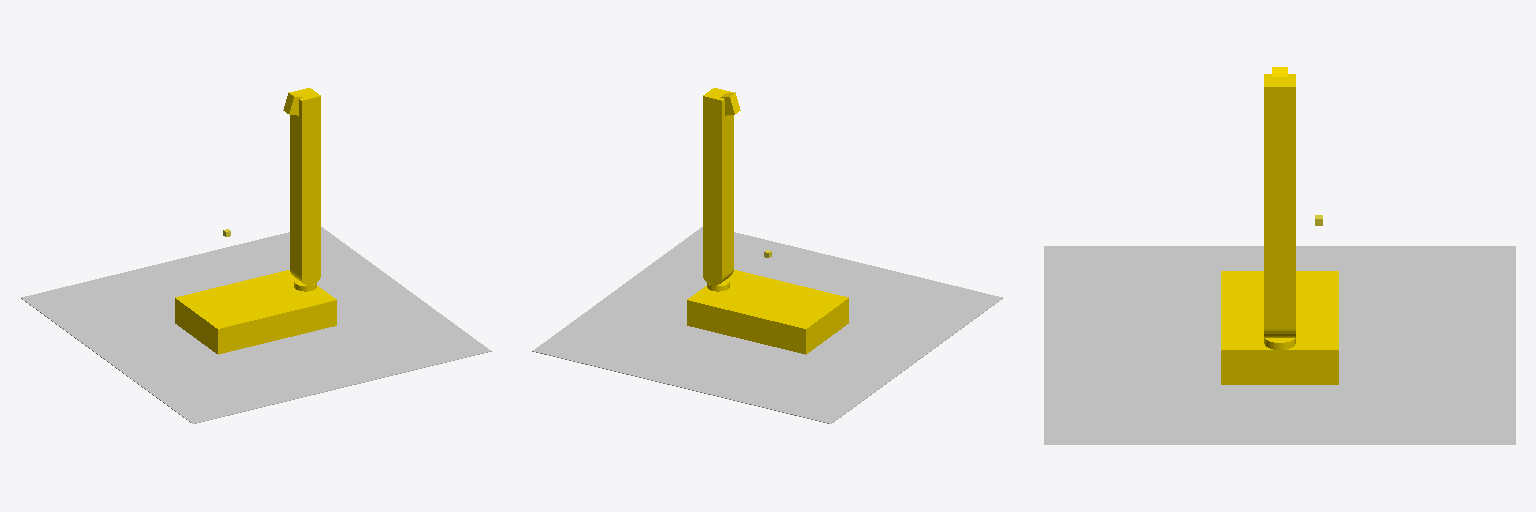
robot.urdf — rover_crane_nbv:
<?xml version="1.0" ?>
<robot name="rover_crane_nbv">

    <material name="black">
        <color rgba="0 0 0 1"/>
    </material>
    <material name="gold">
        <color rgba="1 0.882 0 1"/>
    </material>
    <material name="lunar_surface">
        <color rgba="0.85 0.85 0.85 1"/>
    </material>

<!-- Start Rover -->
    <!-- Base -->
    <link name="rover_base_link">
        <visual>
            <origin xyz="0 0 0.005" rpy="0 0 0" />
            <geometry>
               <box size="6 6 0.01"/>
            </geometry>
            <material name="lunar_surface"/>
        </visual>
        <collision>
            <origin xyz="0 0 0.005" rpy="0 0 0" />
            <geometry>
                <box size="6 6 0.01"/>
            </geometry>
        </collision>   
        
        <visual>
            <origin xyz="0 0 0.25" rpy="0 0 0" />
            <geometry>
               <box size="2.4 1.5 0.5"/>
            </geometry>
            <material name="gold"/>
        </visual>
        <collision>
            <origin xyz="0 0 0.25" rpy="0 0 0" />
            <geometry>
                <box size="2.4 1.5 0.5"/>
            </geometry>
        </collision>   
    </link>
    
    <link name="crane_yaw">
        <visual>
            <origin xyz="0 0 0.05" rpy="0 0 0" />
            <geometry>
               <cylinder length="0.1" radius="0.2"/>
            </geometry>
            <material name="gold"/>
        </visual>
        <collision>
            <origin xyz="0 0 0.05" rpy="0 0 0" />
            <geometry>
                <cylinder length="0.1" radius="0.2"/>
            </geometry>
        </collision>    
    </link>
    
    <joint name="joint0_1" type="revolute">
        <parent link="rover_base_link"/>
        <child link="crane_yaw"/>
        <origin xyz="1.0 0 0.5" rpy="0 0 0"/>
        <axis xyz="0 0 1"/>
        <limit lower="-0.523599" upper="0.523599" effort="0" velocity="0"/>
    </joint>

    <link name="crane_link1">
        <visual>
            <origin xyz="0 0 0" rpy="1.5708 0 0" />
            <geometry>
               <cylinder length="0.4" radius="0.2"/>
            </geometry>
            <material name="gold"/>
        </visual>
        <collision>
            <origin xyz="0 0 0" rpy="1.5708 0 0" />
            <geometry>
                <cylinder length="0.4" radius="0.2"/>
            </geometry>
        </collision>  

        <visual>
            <origin xyz="-1.698 0 0" rpy="0 0 0" />
            <geometry>
               <box size="3.396 0.4 0.4"/>
            </geometry>
            <material name="gold"/>
        </visual>
        <collision>
            <origin xyz="-1.698 0 0" rpy="0 0 0" />
            <geometry>
                <box size="3.396 0.4 0.4"/>
            </geometry>
        </collision>
    </link>


    <joint name="joint0_2" type="revolute">
        <parent link="crane_yaw"/> 
        <child link="crane_link1"/>
        <origin xyz="0 0 0.3" rpy="0 1.5708 0"/>
        <axis xyz="0 1 0"/>
        <limit lower="0.0" upper="1.5708" effort="0" velocity="0"/>
    </joint>


    <link name="crane_link2">
        <visual>
            <origin xyz="1.132 0 0" rpy="0 0 0" />
            <geometry>
               <box size="2.264 0.2 0.2"/>
            </geometry>
            <material name="gold"/>
        </visual>
        <collision>
            <origin xyz="1.132 0 0" rpy="0 0 0" />
            <geometry>
                <box size="2.264 0.2 0.2"/>
            </geometry>
        </collision>
    </link>

    <joint name="joint0_3" type="prismatic">
        <parent link="crane_link1"/>
        <child link="crane_link2"/>
        <origin xyz="-3.396 0 0" rpy="0 0 0"/>
        <axis xyz="-1 0 0"/>
        <limit lower="0.0" upper="2.264" effort="0" velocity="0"/>
    </joint>
    
    <link name="tip">
        <visual>
            <!-- z = (-0.17 - 0.1) -->
            <origin xyz="-0.1 0 -0.17" rpy="0 1.5708 0" />
            <geometry>
               <box size="0.34 0.2 0.2"/>
            </geometry>
            <material name="gold"/>
        </visual>
        <collision>
            <origin xyz="-0.1 0 -0.17" rpy="0 1.5708 0" />
            <geometry>
                <box size="0.34 0.2 0.2"/>
            </geometry>
        </collision>   
    </link>

    <joint name="tip_joint" type="fixed">
        <parent link="crane_link2"/>
        <child link="tip"/>
        <origin xyz="0 0 -0.1" rpy="0 -1.26165662836 0"/>
    </joint>

<!-- START NBV -->
  <link name="base_link">
    <visual>
      <origin xyz="0 0 0" rpy="0 0 0" />
      <geometry>
        <mesh filename="package://../nbv/urdf/stl/mount.stl" />
      </geometry>
    </visual>
    <collision>
      <origin xyz="0 0 0" rpy="0 0 0" />
      <geometry>
        <mesh filename="package://../nbv/urdf/stl/mount.stl" />
      </geometry>
    </collision>

    <!-- 
    <inertial>
      <mass value="0.1" />
      <inertia ixx="0.03" iyy="0.03" izz="0.03" ixy="0.0" ixz="0.0" iyz="0.0" />
    </inertial>
    -->
  </link>

<!-- CHANGE WHERE NBV IS PLACED HERE -->
<!-- NBV ATTACHED TO ARM TIP
    <joint name="nbv_rover_fix" type="fixed">
        <parent link="tip"/>
        <child link="base_link"/>
        <origin xyz="0 0 0" rpy="0 0 0"/>
    </joint>
-->
<!-- <box size="2.4 1.5 0.5"/> -->
<!-- NBV ATTACHED TO ROVER DECK
    <joint name="nbv_rover_fix" type="fixed">
        <parent link="rover_base_link"/>
        <child link="base_link"/>
        <origin xyz="0 0 0.5" rpy="0 0 0"/>
    </joint>
-->
<!-- NBV ATTACHED TO ROVER FRONT BUMPER -->

    <joint name="nbv_rover_fix" type="fixed">
        <parent link="rover_base_link"/>
        <child link="base_link"/>
        <origin xyz="-1.0 0.5 0.5" rpy="0 0 0"/>
    </joint>

  
  <!-- Base-Seg1 -->
  <link name="base-seg1">
    <visual>
      <origin xyz="0 0 -0.2491" rpy="0 0 -1.57079632679" />
      <geometry>
        <mesh filename="package://../nbv/urdf/stl/mount-seg1.stl" />
      </geometry>
    </visual>
    <collision>
      <origin xyz="0 0 -0.2491" rpy="0 0 -1.57079632679" />
      <geometry>
        <mesh filename="package://../nbv/urdf/stl/mount-seg1.stl" />
      </geometry>
    </collision>
    <inertial>
      <mass value="0.1" />
      <inertia ixx="0.03" iyy="0.03" izz="0.03" ixy="0.0" ixz="0.0" iyz="0.0" />
    </inertial>
  </link>
  <joint name="joint1" type="revolute">
    <parent link="base_link" />
    <child link="base-seg1" />
    <origin xyz="0 0 0.2872" rpy="0 0 0" />
    <axis xyz="0 0 1" />
    <limit effort="300" velocity="0.25" lower="-3.14159" upper="3.14159" />
  </joint>
  
  
  <!-- Seg1 -->
  <link name="seg1">
    <visual>
      <origin xyz="0 0 0" rpy="0 1.57079632679 -1.57079632679" />
      <geometry>
        <mesh filename="package://../nbv/urdf/stl/seg1.stl" />
      </geometry>
    </visual>
    <collision>
      <origin xyz="0 0 0" rpy="0 1.57079632679 -1.57079632679" />
      <geometry>
        <mesh filename="package://../nbv/urdf/stl/seg1.stl" />
      </geometry>
    </collision>

    <inertial>
      <mass value="0.1" />
      <inertia ixx="0.03" iyy="0.03" izz="0.03" ixy="0.0" ixz="0.0" iyz="0.0" />
    </inertial>

  </link>
  <joint name="joint2" type="revolute">
    <parent link="base-seg1" />
    <child link="seg1" />
    <origin xyz="0 0 0" rpy="1.57079632679 0 0" />
    <axis xyz="0 0 1" />
    <limit effort="300" velocity="0.25" lower="-0.785" upper="3.925" />
  </joint>
  <!-- Seg1-Seg2 -->
  <link name="seg1-seg2">
    <visual>
      <origin xyz="0 0 0" rpy="0 1.57079632679 0" />
      <geometry>
        <mesh filename="package://../nbv/urdf/stl/seg1-seg2.stl" />
      </geometry>
    </visual>
    <collision>
      <origin xyz="0 0 0" rpy="0 1.57079632679 0" />
      <geometry>
        <mesh filename="package://../nbv/urdf/stl/seg1-seg2.stl" />
      </geometry>
    </collision>

    <inertial>
      <mass value="0.1" />
      <inertia ixx="0.03" iyy="0.03" izz="0.03" ixy="0.0" ixz="0.0" iyz="0.0" />
    </inertial>

  </link>
  <joint name="joint3" type="revolute">
    <parent link="seg1" />
    <child link="seg1-seg2" />
    <origin xyz="0.5589 0 0" rpy="3.14159265359 0 0" />
    <axis xyz="0 0 1" />
    <limit effort="300" velocity="0.25" lower="-1.5707" upper="1.5707" />
  </joint>
  <!-- Seg2 -->
  <link name="seg2">
    <visual>
      <origin xyz="0 0 -0.4368" rpy="0 0 1.57079632679" />
      <geometry>
        <mesh filename="package://../nbv/urdf/stl/seg2.stl" />
      </geometry>
    </visual>
    <collision>
      <origin xyz="0 0 -0.4368" rpy="0 0 1.57079632679" />
      <geometry>
        <mesh filename="package://../nbv/urdf/stl/seg2.stl" />
      </geometry>
    </collision>

    <inertial>
      <mass value="0.1" />
      <inertia ixx="0.03" iyy="0.03" izz="0.03" ixy="0.0" ixz="0.0" iyz="0.0" />
    </inertial>

  </link>
  <joint name="joint4" type="continuous">
    <parent link="seg1-seg2" />
    <child link="seg2" />
    <origin xyz="0.15140 -0.5388 0" rpy="1.57079632679 0 0" />
    <axis xyz="0 0 1" />
    <limit effort="300" velocity="0.25" lower="-3.14159" upper="3.14159" />
  </joint>
  <!-- End -->
  <link name="end">
    <visual>
      <origin xyz="0 0 0" rpy="0 1.57079632679 -1.57079632679" />
      <geometry>
        <mesh filename="package://../nbv/urdf/stl/end.stl" />
      </geometry>
    </visual>
    <collision>
      <origin xyz="0 0 0" rpy="0 1.57079632679 -1.57079632679" />
      <geometry>
        <mesh filename="package://../nbv/urdf/stl/end.stl" />
      </geometry>
    </collision>

    <inertial>
      <mass value="0.1" />
      <inertia ixx="0.03" iyy="0.03" izz="0.03" ixy="0.0" ixz="0.0" iyz="0.0" />
    </inertial>

  </link>
  <joint name="joint5" type="revolute">
    <parent link="seg2" />
    <child link="end" />
    <origin xyz="0 0 0" rpy="-1.57079632679 0 0" />
    <axis xyz="0 0 1" />
    <limit effort="300" velocity="0.25" lower="-1.78" upper="1.78" />
  </joint>
  <!-- Manipulator -->
  <!-- Another joint for the rotation of whatever is attached to the end of NBV.
    As there is no model for this, it's currently just a big cube when uncommented. -->
  <link name="manip">
    <visual>
      <origin xyz="0 0 0.3" rpy="0 0 0" />
      <geometry>
        <box size="0.1 0.1 0.1" />
      </geometry>
    </visual>
    <collision>
      <origin xyz="0 0 0.3" rpy="0 0 0" />
      <geometry>
        <box size="0.1 0.1 0.1" />
      </geometry>
    </collision>

    <inertial>
      <mass value="0.1" />
      <inertia ixx="0.03" iyy="0.03" izz="0.03" ixy="0.0" ixz="0.0" iyz="0.0" />
    </inertial>

  </link>
  <joint name="joint6" type="continuous">
    <parent link="end" />
    <child link="manip" />
    <origin xyz="0 0 0" rpy="1.57079632679 0 0" />
    <axis xyz="0 0 1" />
    <limit effort="300" velocity="0.25" lower="-6.28" upper="6.28" />
  </joint>

</robot>

--- Facts derived from the render (not from the file) ---
Views: 3 orthographic renders of the robot side by side, from view 1: azimuth 30°, elevation 25°; view 2: azimuth 150°, elevation 25°; view 3: azimuth 270°, elevation 25°.
Robot: rover_crane_nbv — 12 links, 11 joints (6 revolute, 2 continuous, 1 prismatic, 2 fixed); root link rover_base_link; default pose: all joints at 0.
Links seen in each view (by area): view 1: rover_base_link, crane_link1; view 2: rover_base_link, crane_link1; view 3: rover_base_link, crane_link1.
Link boxes in pixels (x1,y1,x2,y2): rover_base_link: [21, 227, 491, 423]; crane_link1: [290, 88, 320, 285]; rover_base_link: [532, 227, 1002, 423]; crane_link1: [703, 88, 733, 285]; rover_base_link: [1044, 246, 1515, 444]; crane_link1: [1264, 74, 1295, 337].
Bounding box of the posed robot: 6 × 6 × 4.26 m (x, y, z).
Geometry: only primitive shapes (box / cylinder / sphere) drawn; not drawn: 6 mesh visuals (reference in a form the renderer does not follow).